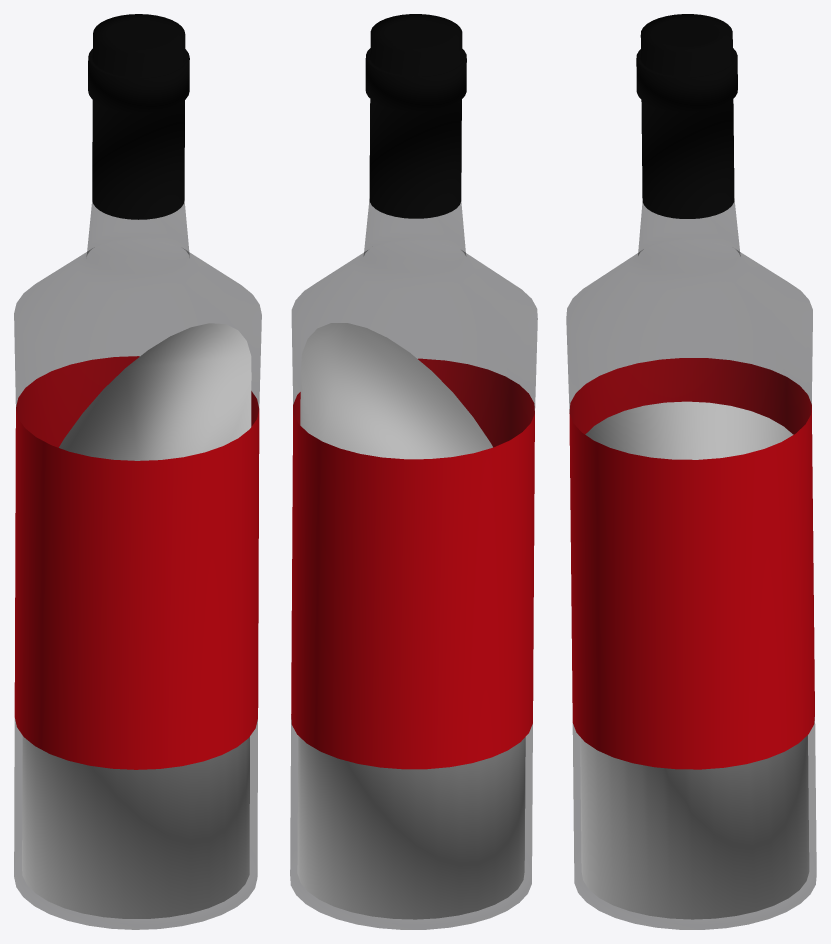
Rendered from botella1.glb.
The picture shows the model from 3 angles, left to right: view 1: azimuth 30°, elevation 25°; view 2: azimuth 150°, elevation 25°; view 3: azimuth 270°, elevation 25°; orthographic projection.
Visible parts, largest first — view 1: Cylinder (×3), Cylinder.001; view 2: Cylinder (×3), Cylinder.001; view 3: Cylinder (×3), Cylinder.001.
Boxes of the visible parts, x1,y1,x2,y2 form: Cylinder (×3): (14,14,261,929); Cylinder.001: (22,323,251,918); Cylinder (×3): (290,14,537,929); Cylinder.001: (297,323,525,919); Cylinder (×3): (566,14,816,929); Cylinder.001: (580,401,809,919).
Bounding box in the file's own units: 0.1995 × 0.7549 × 0.2024.
